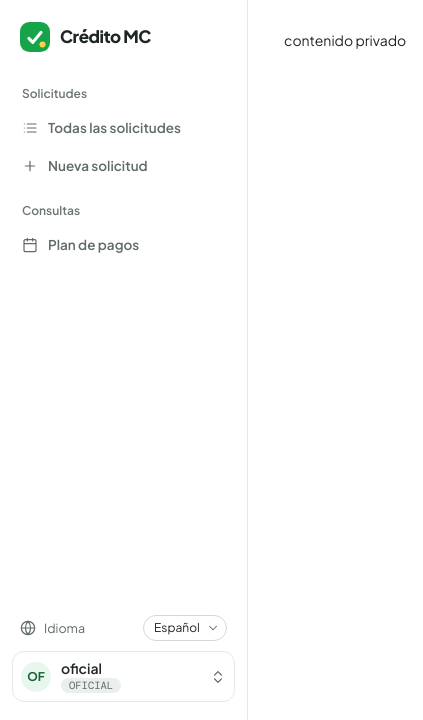
Scenario: autenticación › cambiar el idioma traduce el menú
Select "English" in the dropdown named "Idioma" at (185, 628), box [143,615,227,641]
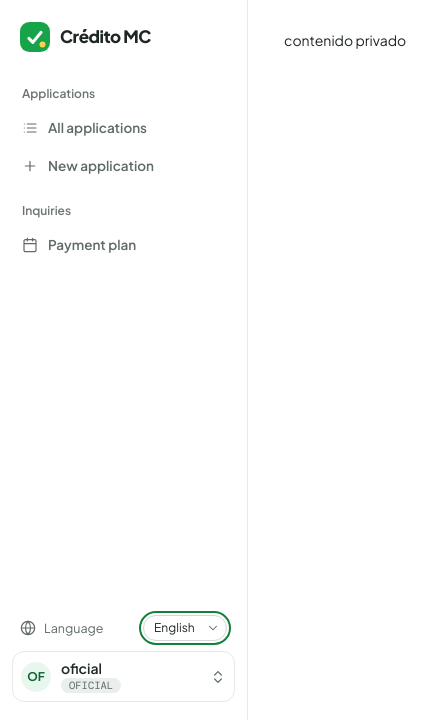
Expected: the link "New application" is shown, [22,157,154,174]
